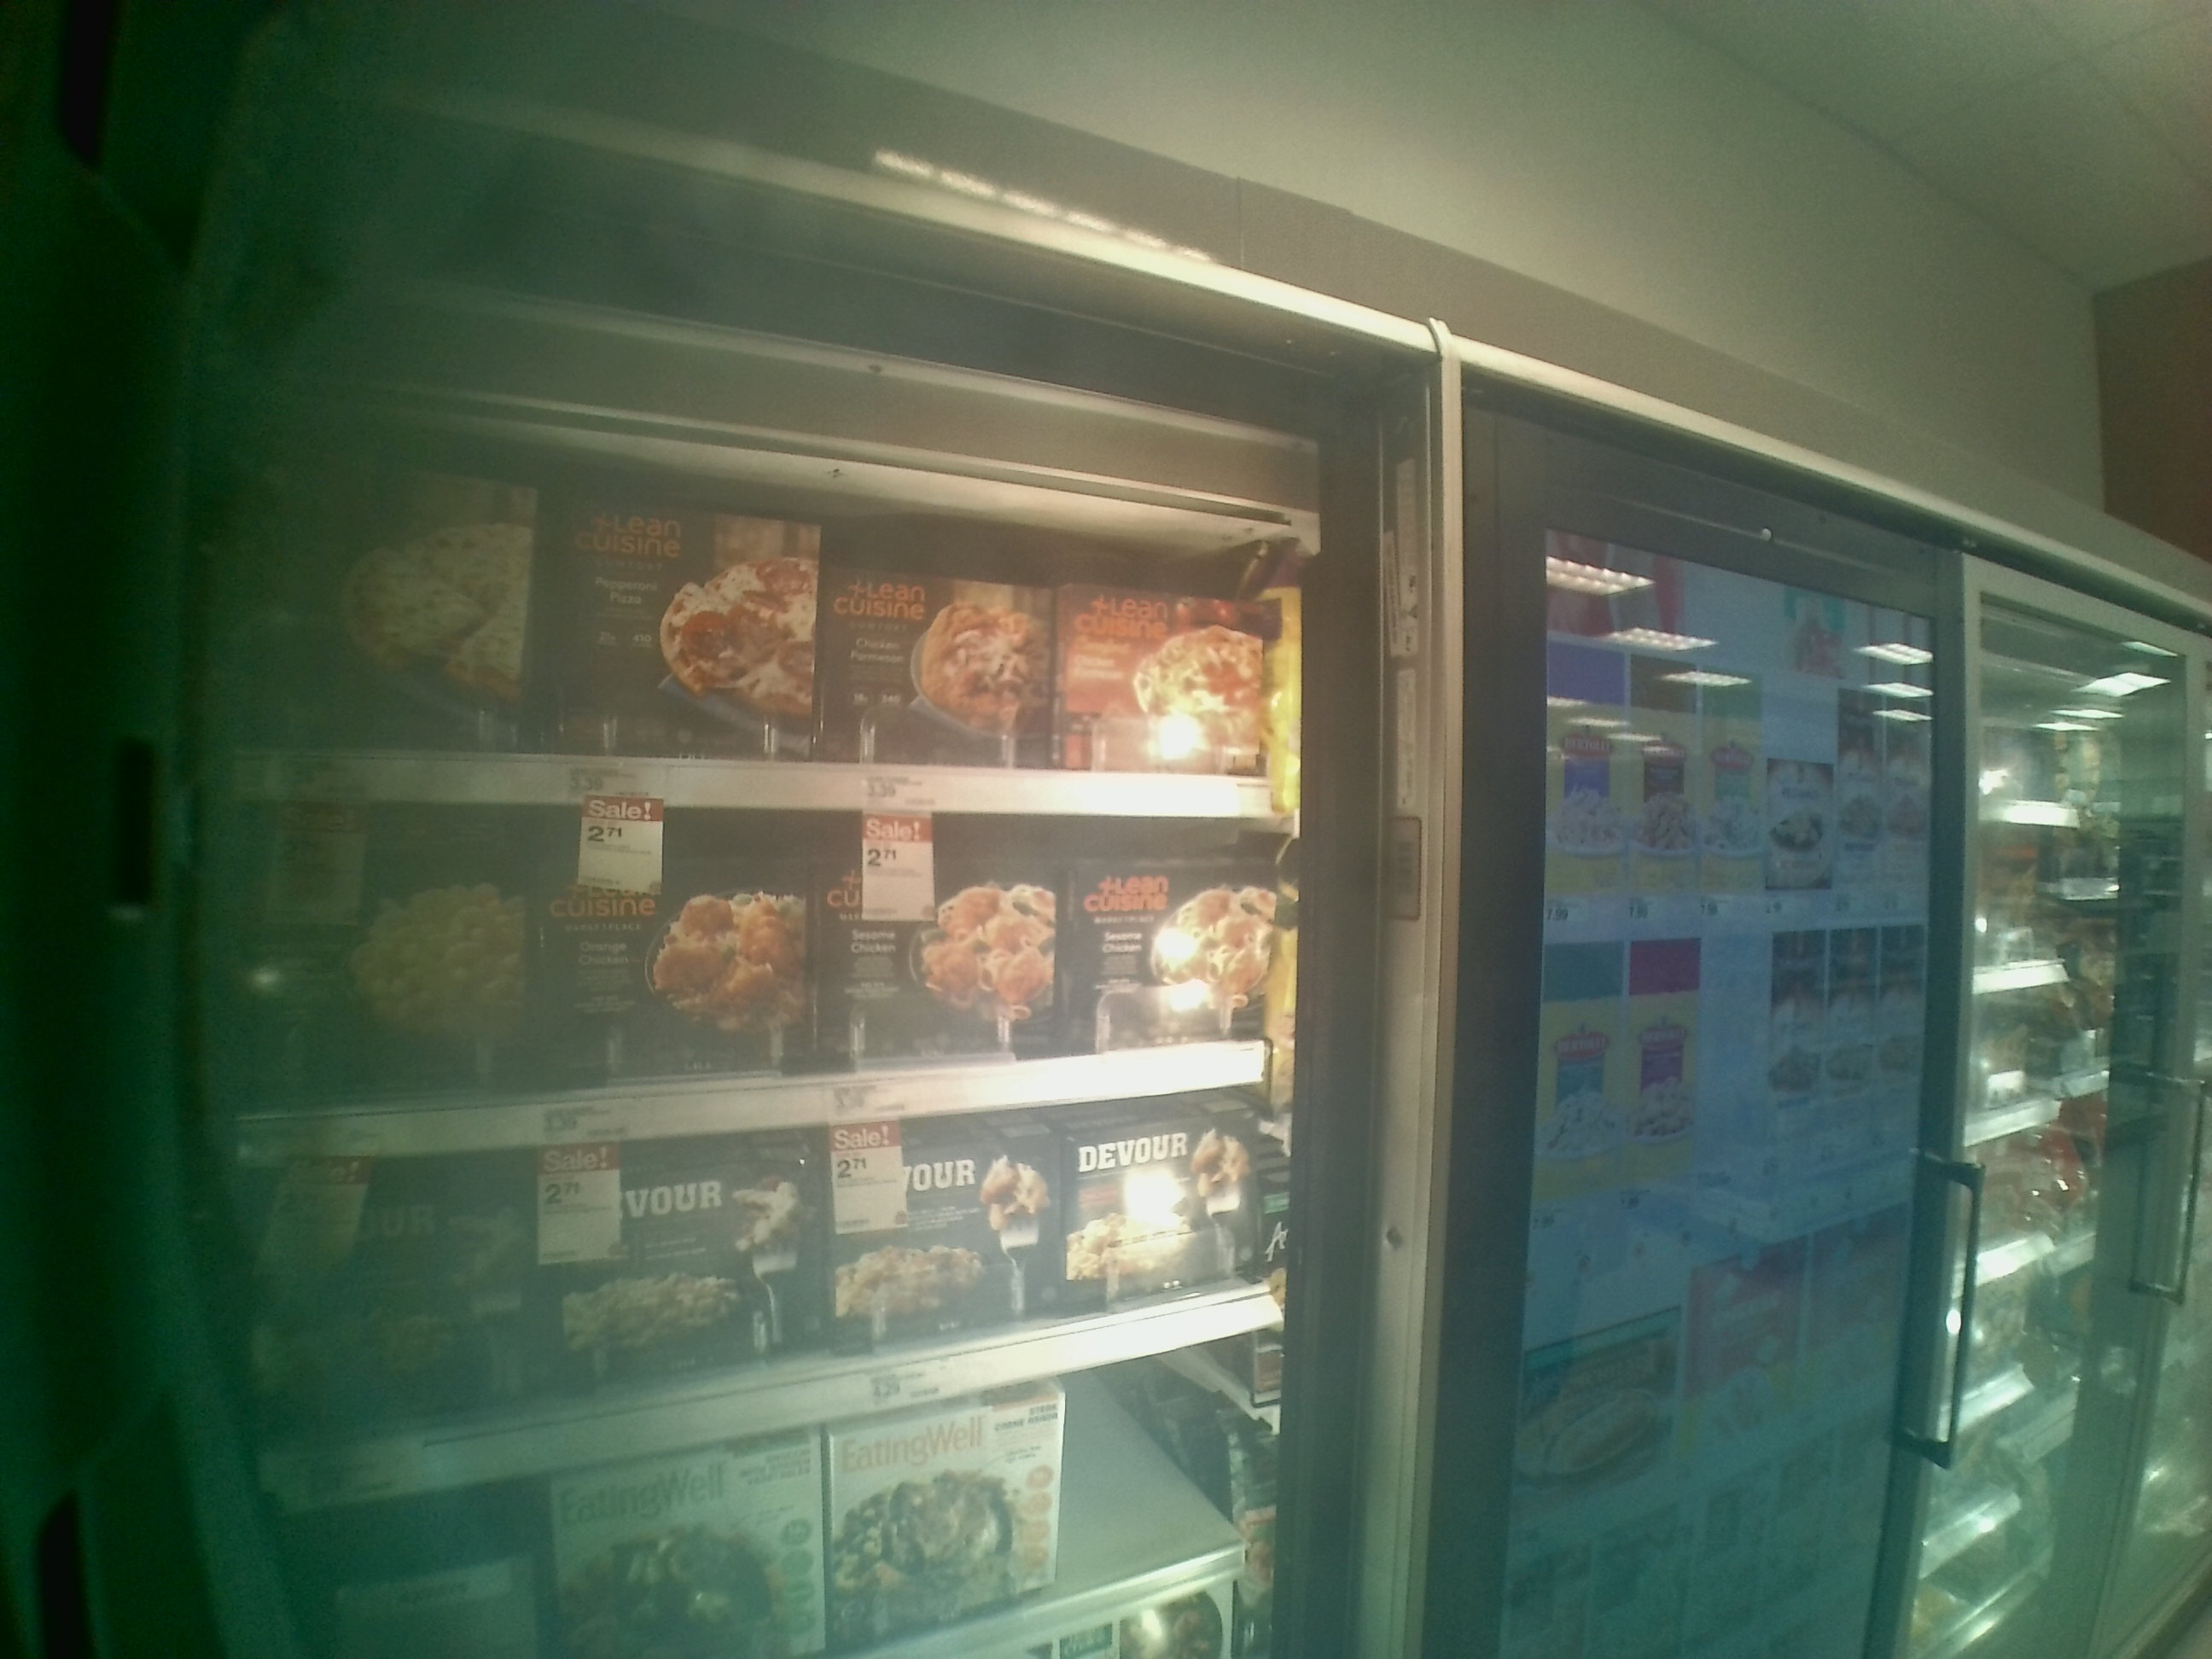shelf: (244, 380, 1298, 817), (246, 1089, 1303, 1507), (246, 802, 1291, 1154)
